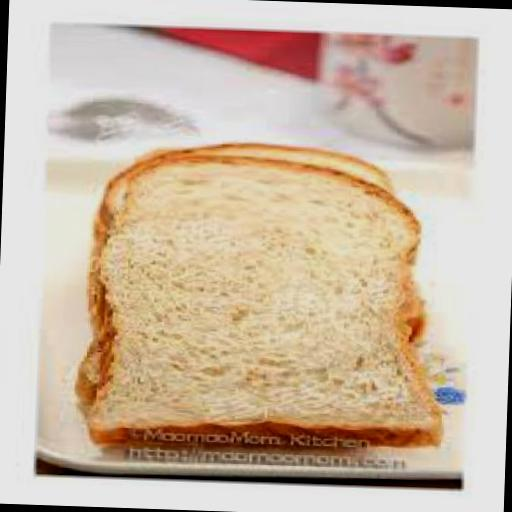biodegradable: (92, 161, 450, 448), (74, 136, 432, 404)
